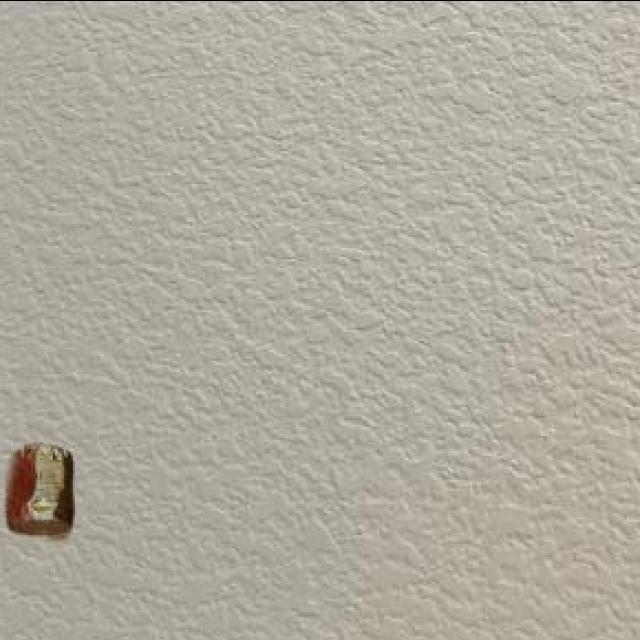logam: (10, 447, 76, 542)
